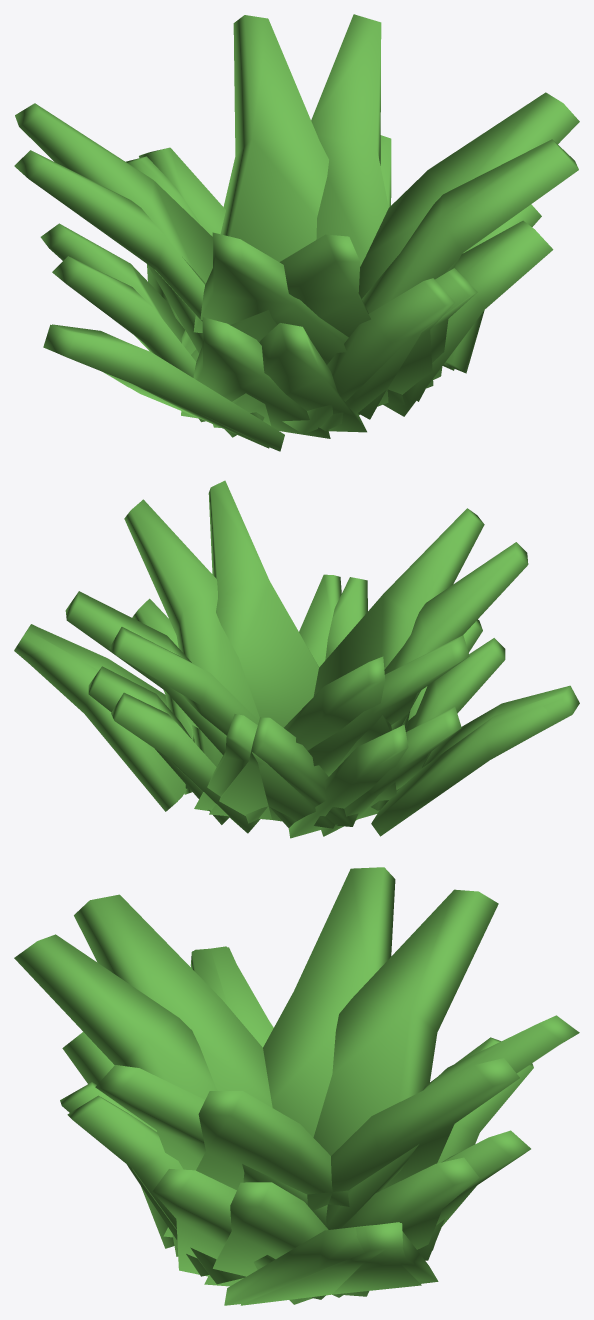
Rendered from alga2.fbx.
The picture shows the model from 3 angles, top to bottom: view 1: azimuth 30°, elevation 25°; view 2: azimuth 150°, elevation 25°; view 3: azimuth 270°, elevation 25°; orthographic projection. The views are drawn at different scales.
Parts seen in each view (by area): view 1: Planta_curta.02; view 2: Planta_curta.02; view 3: Planta_curta.02.
Part boxes in pixels (left/top/right/bottom): Planta_curta.02: left=14, top=14, right=579, bottom=451; Planta_curta.02: left=14, top=480, right=579, bottom=838; Planta_curta.02: left=14, top=867, right=579, bottom=1305.
Size of the model in its own units: 83.47 by 36.23 by 68.98.
